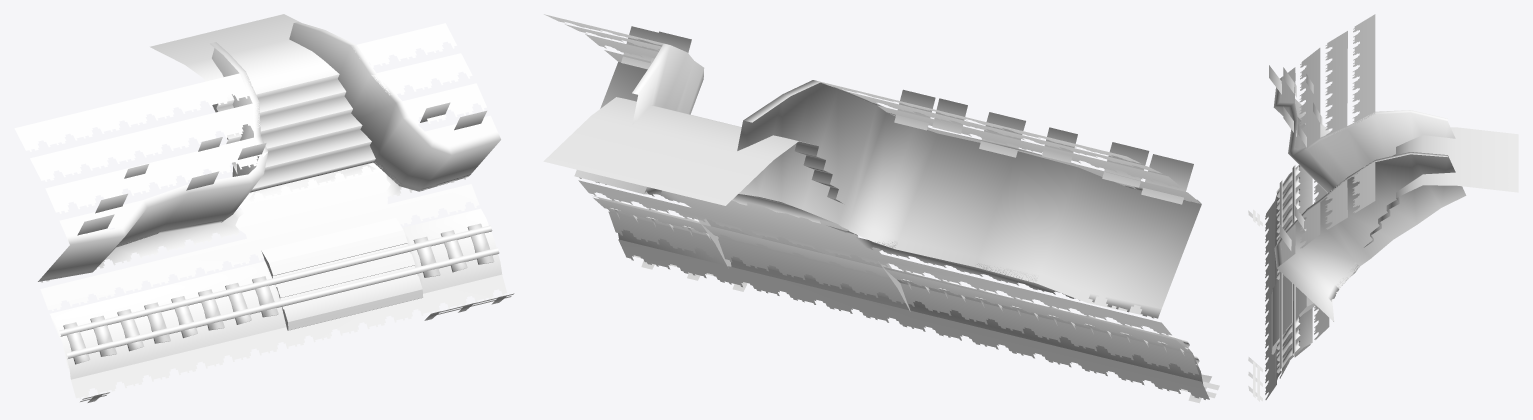
The model's file is grd_En_C_0.dae.
3 renders of one model, left to right at view 1: azimuth 30°, elevation 25°; view 2: azimuth 150°, elevation 25°; view 3: azimuth 270°, elevation 25°, orthographic. The views are drawn at different scales.
Parts seen in each view (by area): view 1: grd_En_C_0; view 2: grd_En_C_0; view 3: grd_En_C_0.
Boxes of the visible parts, bbox=[...] form: grd_En_C_0: bbox=[14, 14, 514, 402]; grd_En_C_0: bbox=[543, 14, 1219, 403]; grd_En_C_0: bbox=[1248, 14, 1518, 401].
Bounding box in the file's own units: 512 × 266 × 313.
6 materials, 1 textured.
